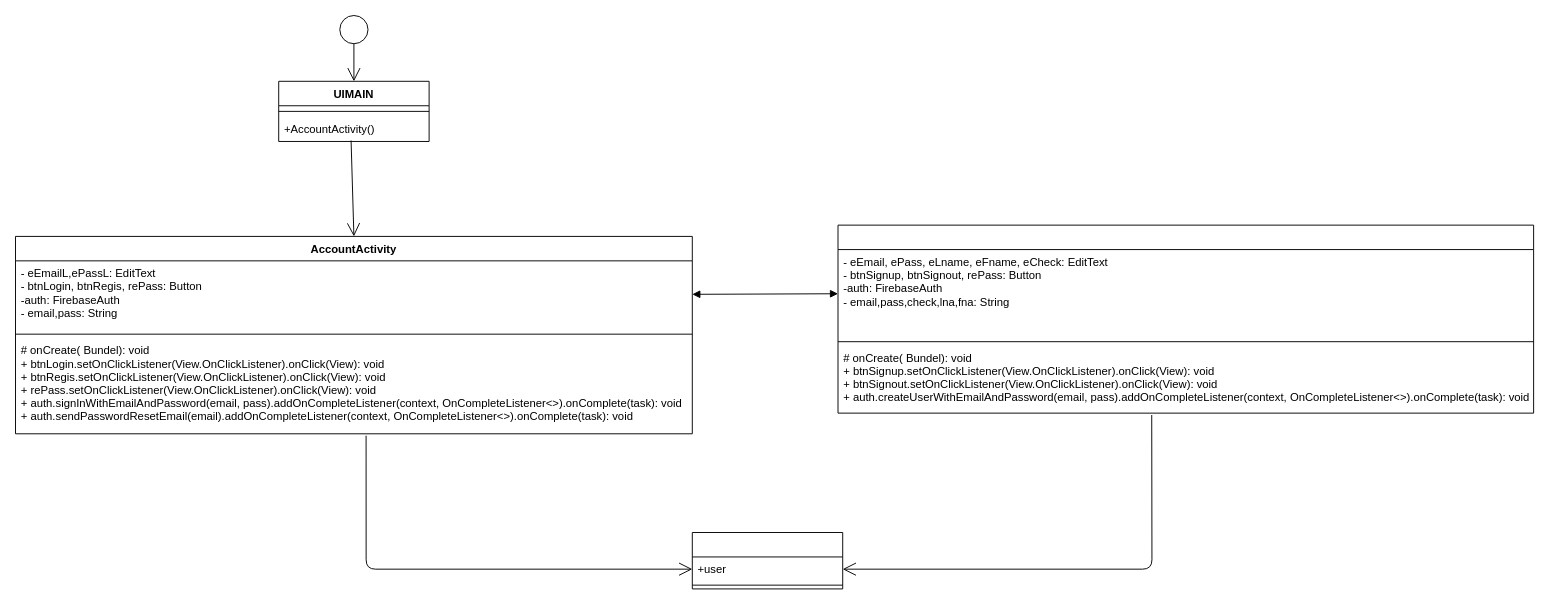
This 1549x604 diagram has some shape labels left out. The box of each missing label's shape, as (x1, y1, x2, y2) in pixels:
Firebase: (691, 532, 843, 589)
SignUpActivity: (837, 224, 1534, 413)
